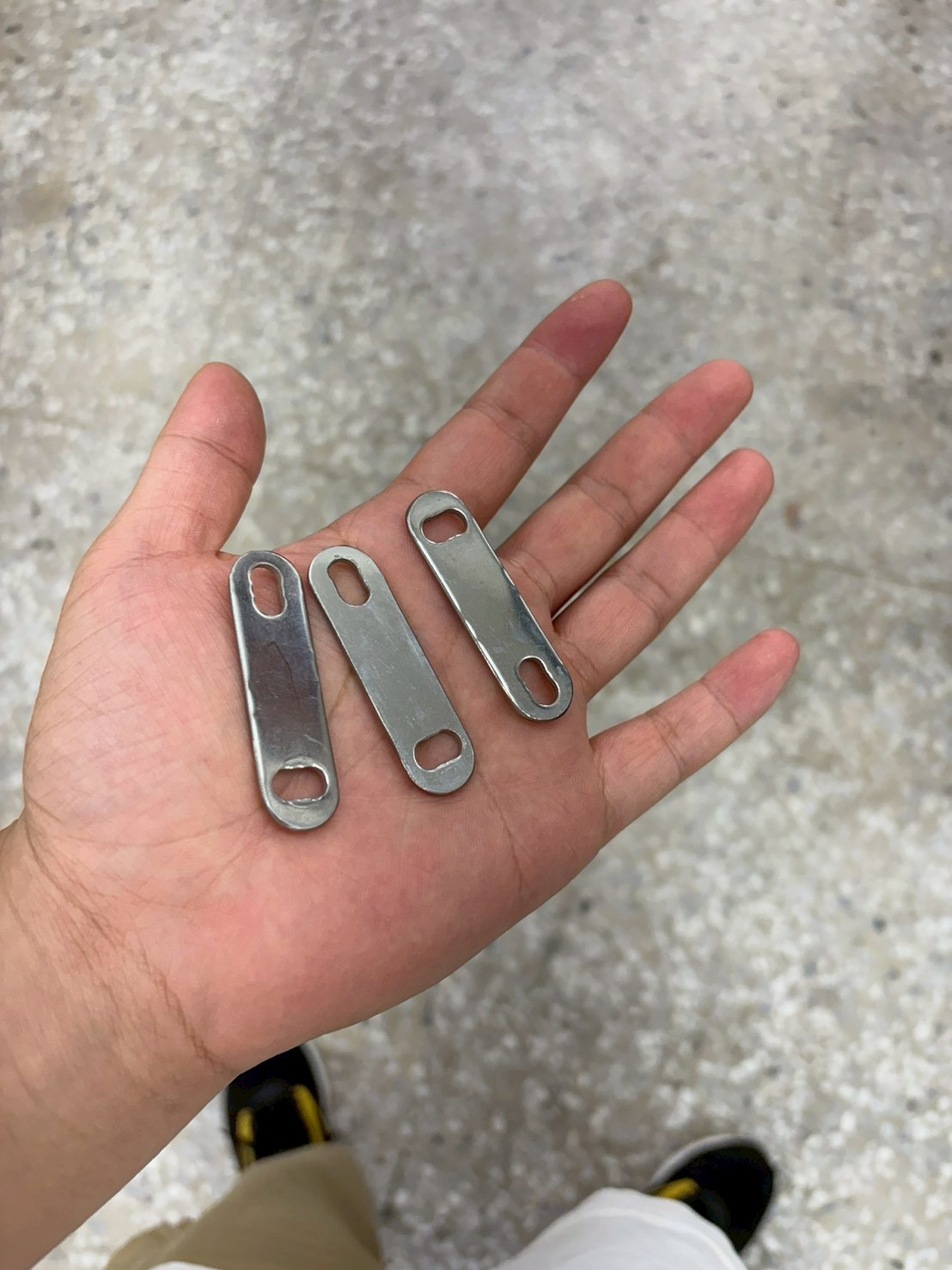Fe: (218, 555, 306, 844), (289, 566, 373, 848), (394, 506, 467, 780)
